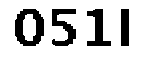0: (12, 7, 46, 47)
1: (84, 6, 114, 50)
5: (48, 7, 78, 50)
I: (118, 5, 136, 52)
